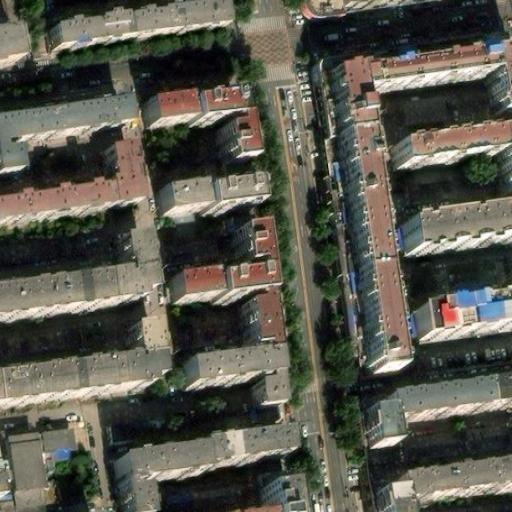building: (316, 68, 385, 381), (385, 46, 512, 186), (0, 324, 154, 408), (361, 372, 512, 447), (0, 240, 142, 319), (0, 150, 133, 228), (0, 100, 124, 174), (372, 460, 512, 512), (396, 204, 512, 261), (178, 358, 282, 413), (407, 292, 512, 346), (343, 50, 476, 90), (103, 441, 200, 482), (195, 430, 277, 469), (6, 438, 42, 507), (195, 193, 249, 223), (232, 306, 263, 356), (182, 97, 236, 125), (152, 189, 197, 221), (207, 284, 259, 311), (227, 239, 257, 285), (215, 118, 242, 167), (164, 287, 209, 315), (140, 104, 185, 131), (34, 427, 74, 457), (108, 479, 138, 512), (262, 487, 295, 512), (0, 24, 14, 60)
